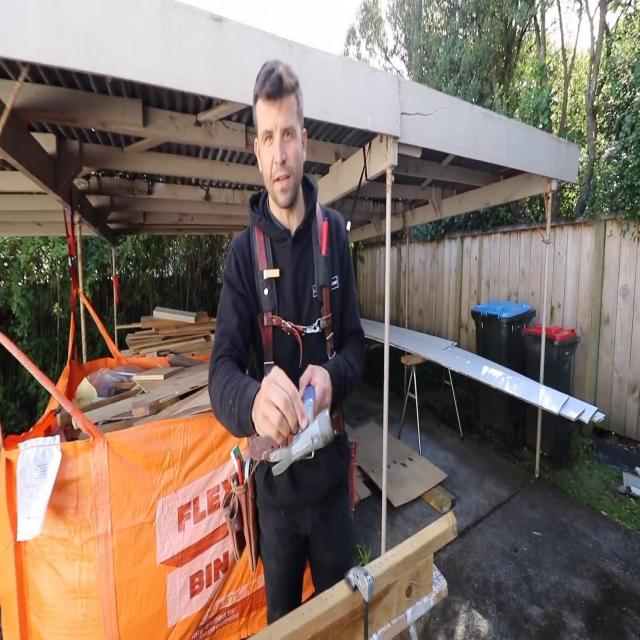hammer: (268, 385, 332, 478)
